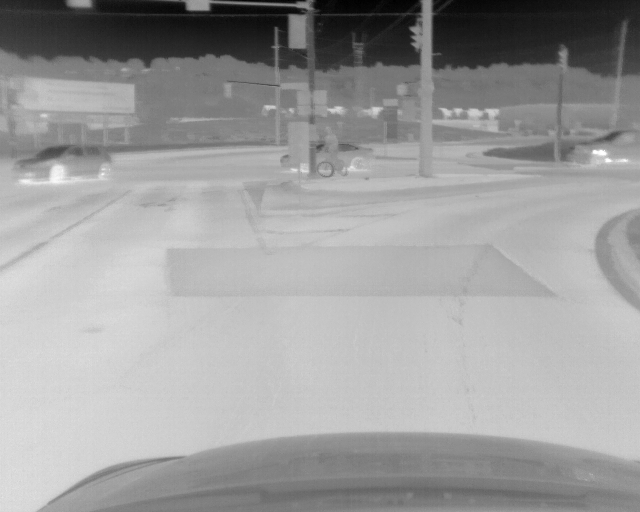bike: (314, 149, 349, 177)
car: (14, 145, 114, 184), (279, 141, 375, 172), (572, 129, 640, 168)
people: (319, 126, 344, 173)
